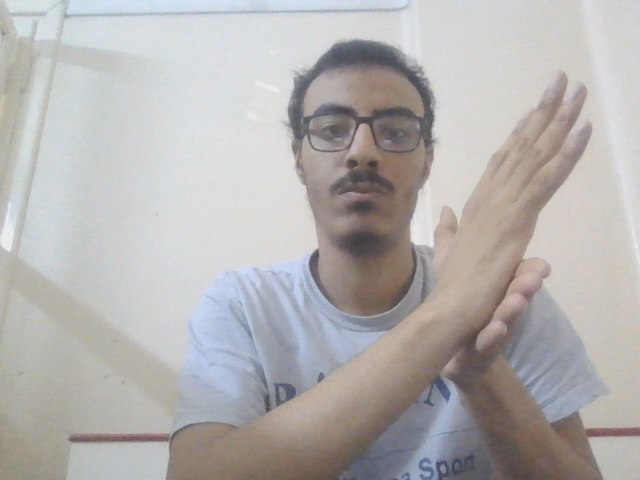Movie: (426, 64, 603, 396)
